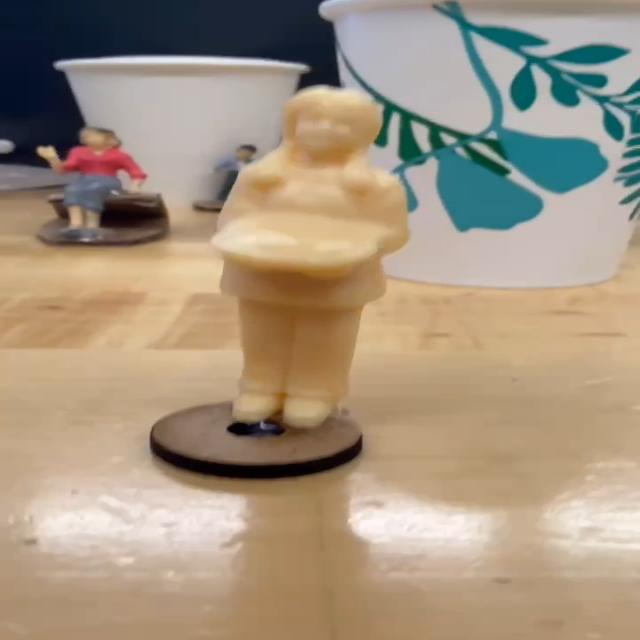Unauthorized: (196, 62, 415, 462)
